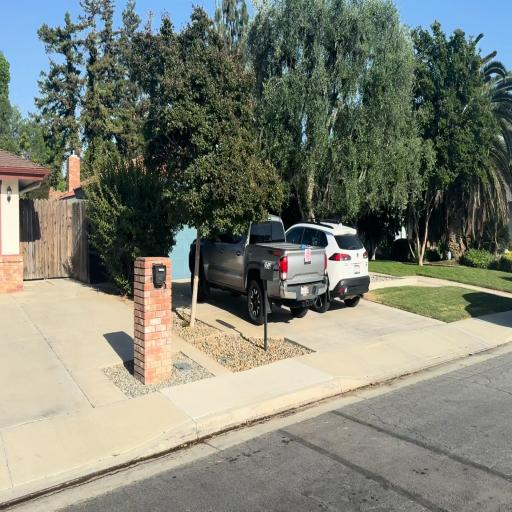bullseye: (305, 248, 311, 262)
